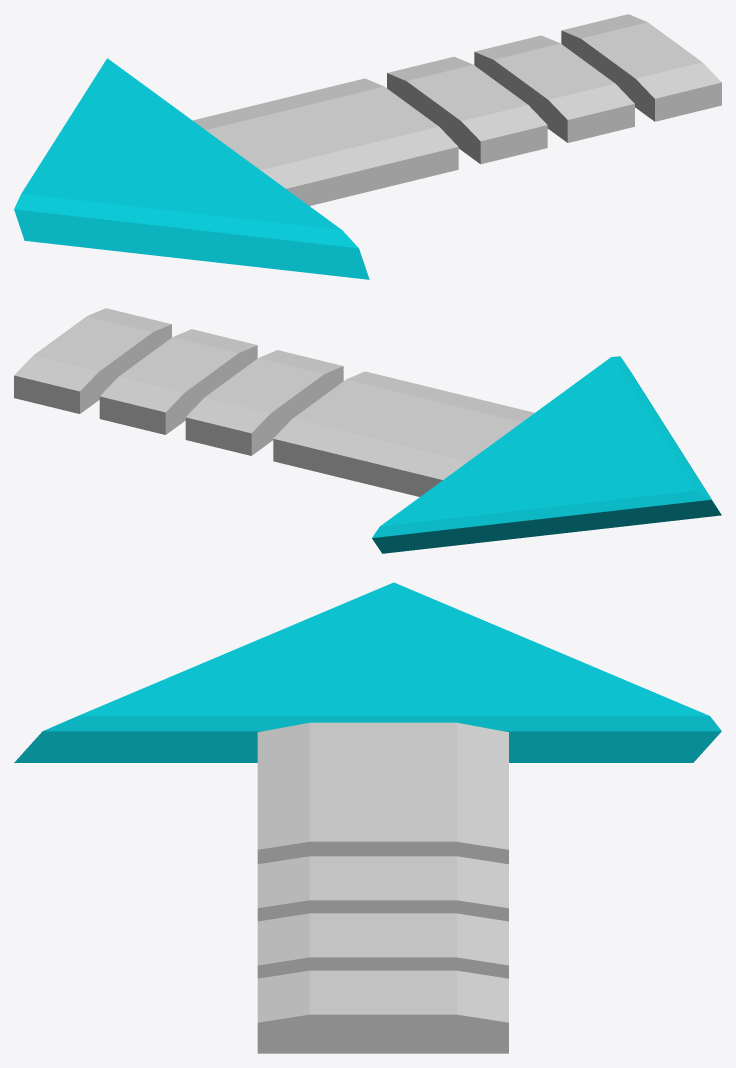
The model's file is StraightArrow.fbx.
The picture shows the model from 3 angles, top to bottom: view 1: azimuth 30°, elevation 25°; view 2: azimuth 150°, elevation 25°; view 3: azimuth 270°, elevation 25°; orthographic projection. The views are drawn at different scales.
Parts seen in each view (by area): view 1: Plane.008_Material.001_0, Cube.004, Cube.003; view 2: Plane.008_Material.001_0, Cube.004, Cube.003; view 3: Plane.008_Material.001_0, Cube.004, Cube.003.
Part boxes in pixels (x1,y1,x2,y2): Plane.008_Material.001_0: (14, 58, 369, 279); Cube.004: (387, 14, 721, 164); Cube.003: (193, 78, 458, 205); Plane.008_Material.001_0: (372, 356, 721, 553); Cube.004: (14, 308, 343, 455); Cube.003: (273, 371, 534, 496); Plane.008_Material.001_0: (14, 582, 721, 762); Cube.004: (257, 856, 508, 1053); Cube.003: (257, 722, 508, 864).
Bounding box in the file's own units: 274 × 13.13 × 189.
